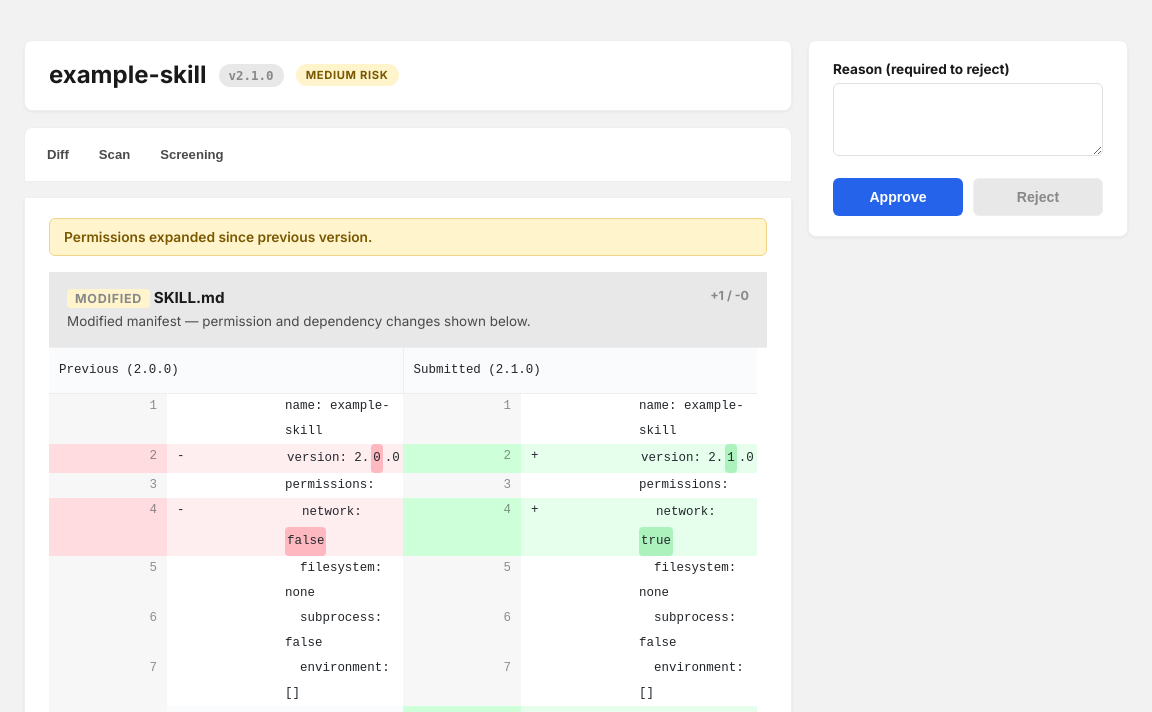
Test: ReviewDetail › renders skipped screening as a configured read-only state
Check: the heading "example-skill" is shown, box left=49, top=61, right=207, bottom=90
Click the tab "Screening" at (192, 154), box left=148, top=138, right=236, bottom=171
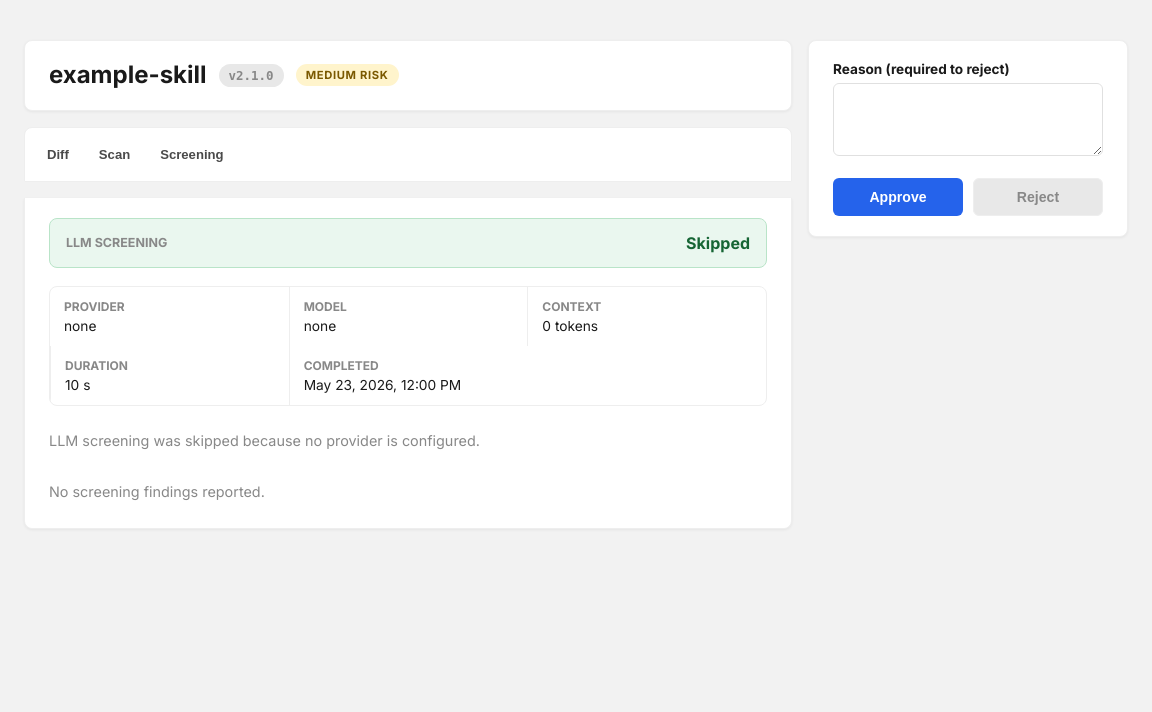
Check: the element named "screening status: skipped" is shown, box left=49, top=218, right=767, bottom=268
Check: the panel "screening" shows "skipped because no provider is configured", box left=49, top=432, right=480, bottom=449
Check: the panel "screening" shows "no screening findings reported", box left=49, top=483, right=265, bottom=500
